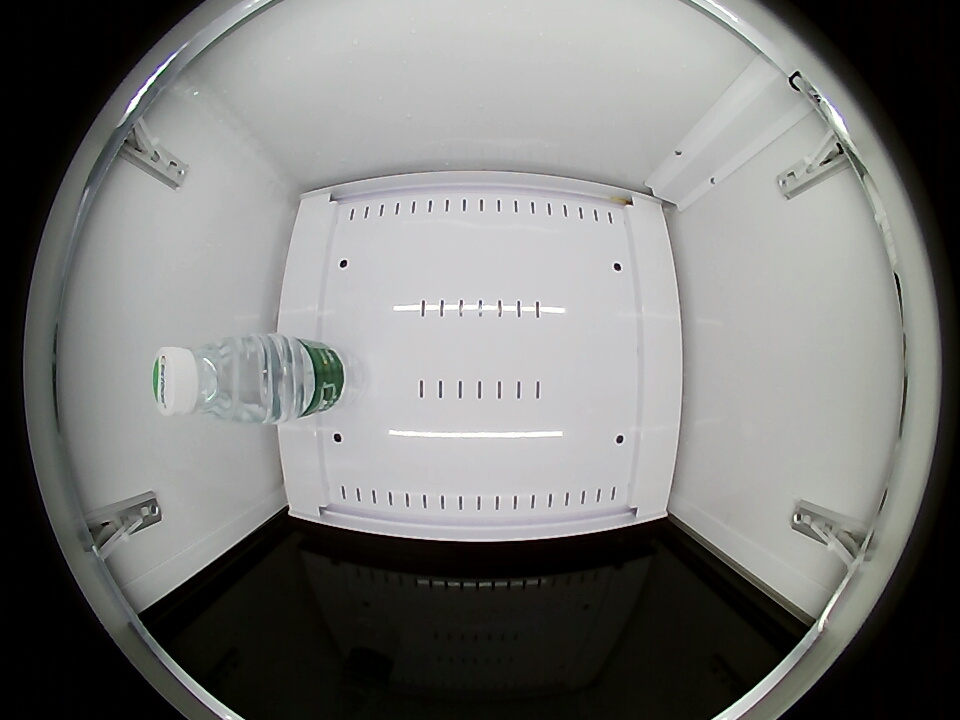yibao: (153, 336, 264, 423)
